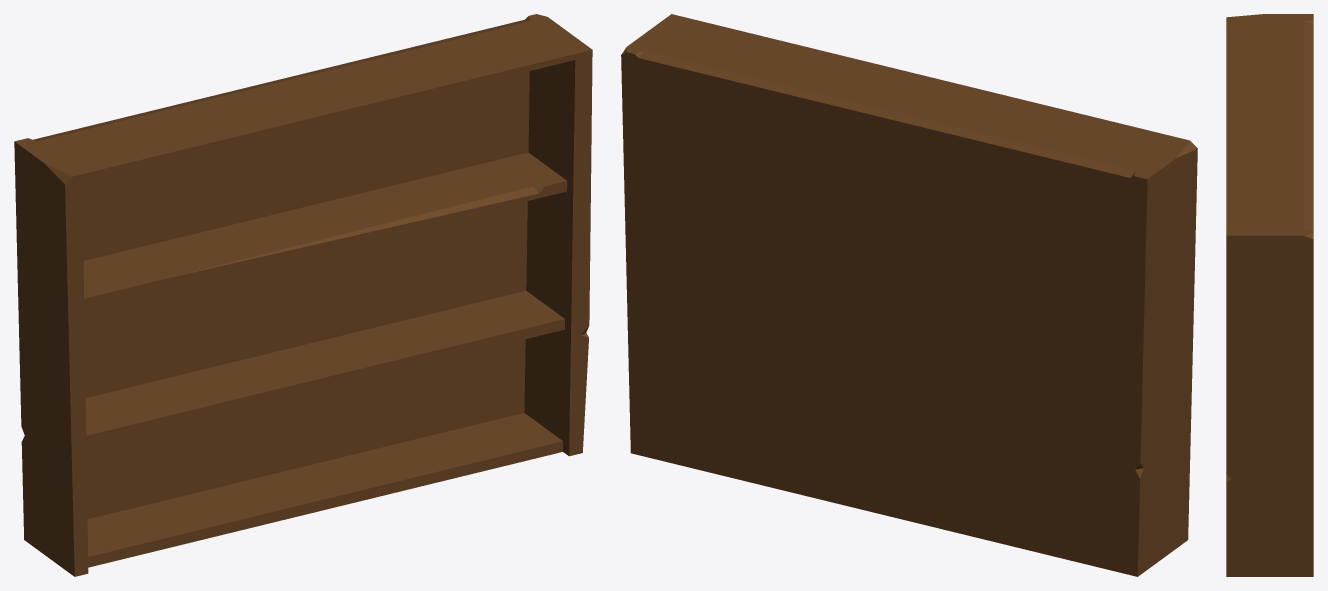
File: Shelf_3.fbx
3 renders of one model, left to right at view 1: azimuth 30°, elevation 25°; view 2: azimuth 150°, elevation 25°; view 3: azimuth 270°, elevation 25°, orthographic. The views are drawn at different scales.
Parts seen in each view (by area): view 1: Cube.022; view 2: Cube.022; view 3: Cube.022.
Part boxes in pixels (left/top/right/bottom): Cube.022: left=14, top=14, right=592, bottom=576; Cube.022: left=621, top=14, right=1197, bottom=576; Cube.022: left=1226, top=14, right=1313, bottom=576.
Bounding box in the file's own units: 206 × 149 × 34.17.
